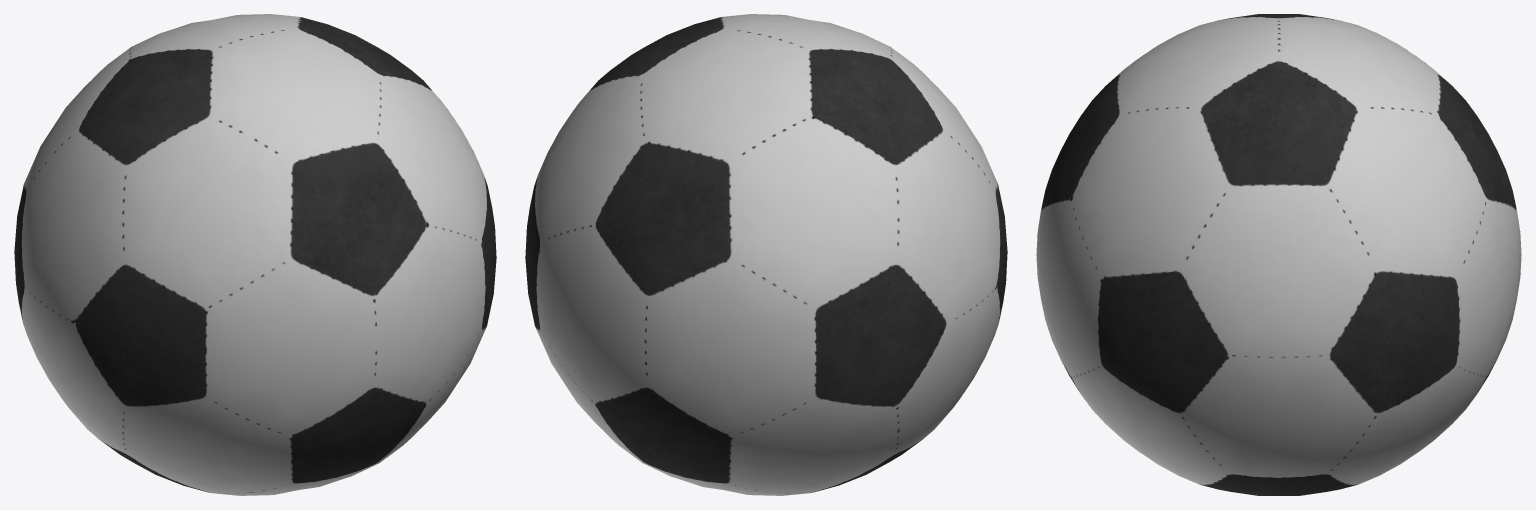
Rendered from uploads_files_2787208_SoccerBallUpload1.fbx.
3 renders of one model, left to right at view 1: azimuth 30°, elevation 25°; view 2: azimuth 150°, elevation 25°; view 3: azimuth 270°, elevation 25°, orthographic.
Parts seen in each view (by area): view 1: MedRes; view 2: MedRes; view 3: MedRes.
Part boxes in pixels (<box>): MedRes: <box>14,14,496,495</box>; MedRes: <box>525,14,1007,495</box>; MedRes: <box>1036,14,1521,495</box>.
Size of the model in its own units: 245 by 245 by 245.
1 material, 1 textured.
